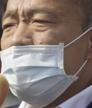mask_weared_incorrect: (1, 2, 92, 108)
